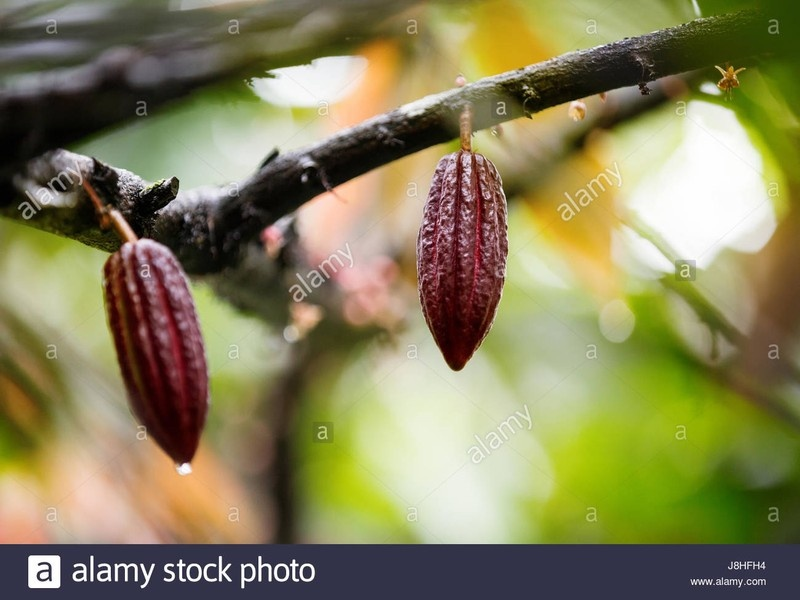Cacaopod: (75, 225, 245, 475), (401, 131, 531, 378)
